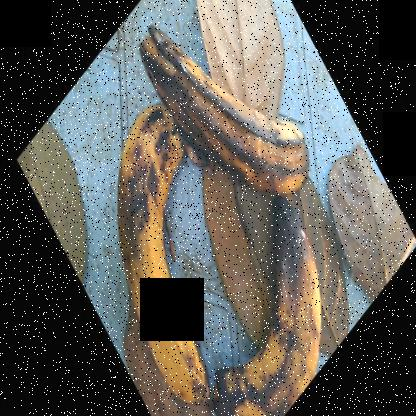overripe: (107, 106, 204, 408), (210, 193, 337, 415)
rotten: (128, 16, 321, 207)
